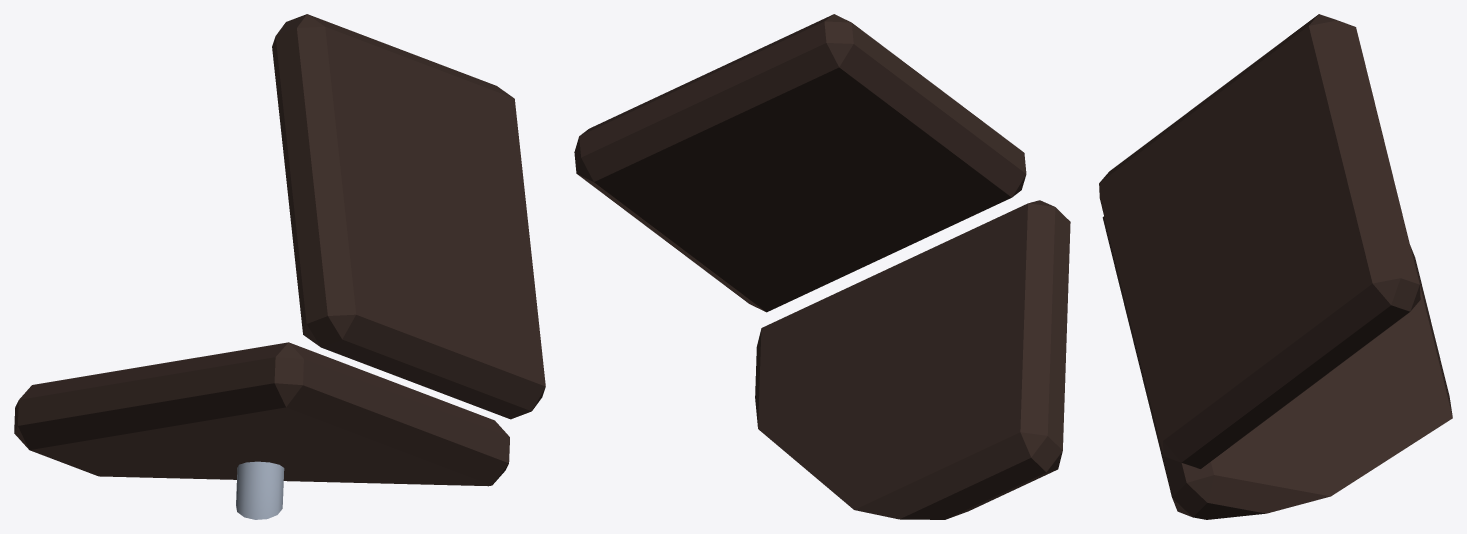
Rendered from noclipped_office_chair.obj.
3 views of the same model, side by side, from view 1: azimuth 30°, elevation 25°; view 2: azimuth 150°, elevation 25°; view 3: azimuth 270°, elevation 25° (orthographic). The views are drawn at different scales.
Parts seen in each view (by area): view 1: Back, Seat, Piston; view 2: Back, Seat; view 3: Back, Seat.
Part boxes in pixels (box(x1,y1,x2,y2)): Back: box(272, 14, 545, 419); Seat: box(14, 342, 509, 486); Piston: box(236, 461, 284, 519); Back: box(574, 14, 1026, 312); Seat: box(755, 200, 1070, 519); Back: box(1099, 14, 1420, 468); Seat: box(1102, 216, 1452, 519).
Size of the model in its own units: 0.8526 by 0.7194 by 0.5232.
